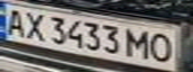3: (100, 22, 124, 56), (45, 15, 69, 46), (81, 20, 103, 53)
4: (63, 18, 84, 50)
A: (0, 6, 30, 37)
M: (124, 26, 154, 60)
O: (145, 29, 178, 63)
X: (18, 10, 48, 42)
